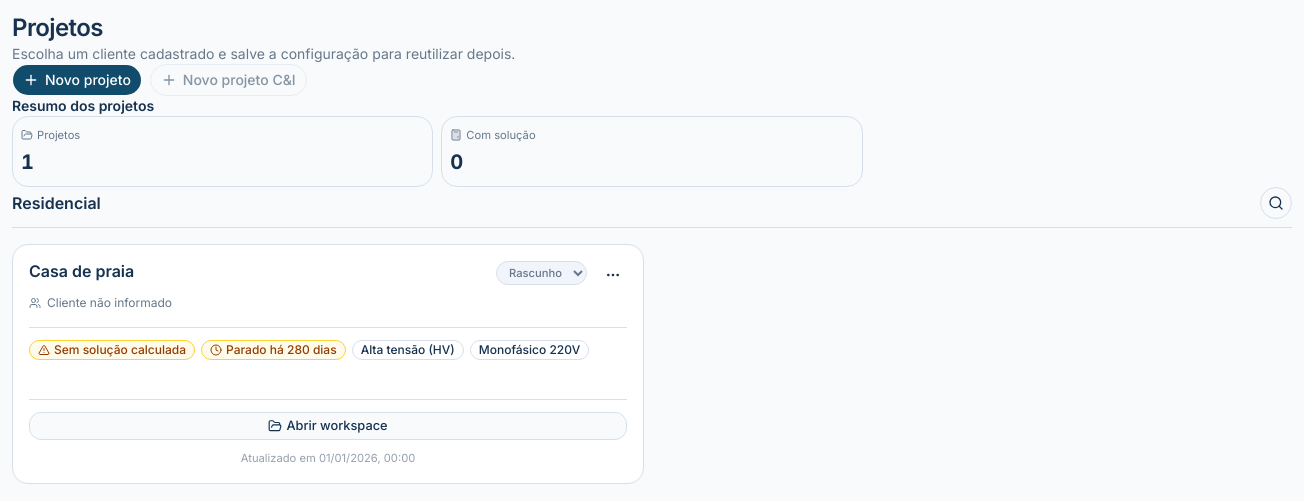
Test: ProjectTab: aggregate stats › replaces the aggregate summary cards with the rich project summary once a card is selected
This screenshot has width=1304, height=501.
Step 1. Click the button "Casa de praia" → (328, 364), box 12,244 -> 644,484
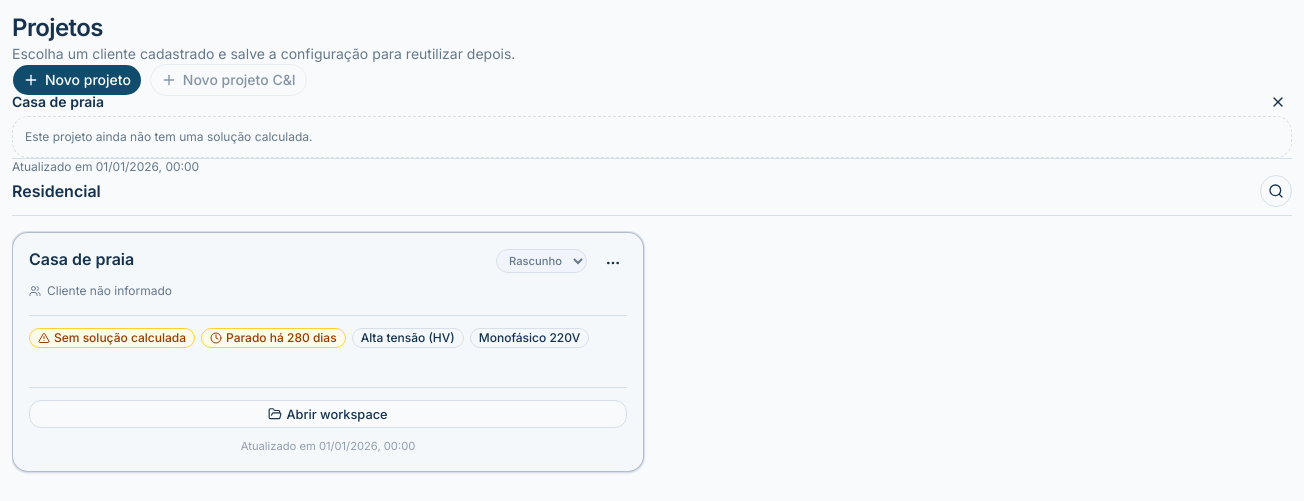
Expected: the heading "Resumo dos projetos" is gone
Expected: the button named "Fechar resumo do projeto" is shown, 1264,88 -> 1292,116
